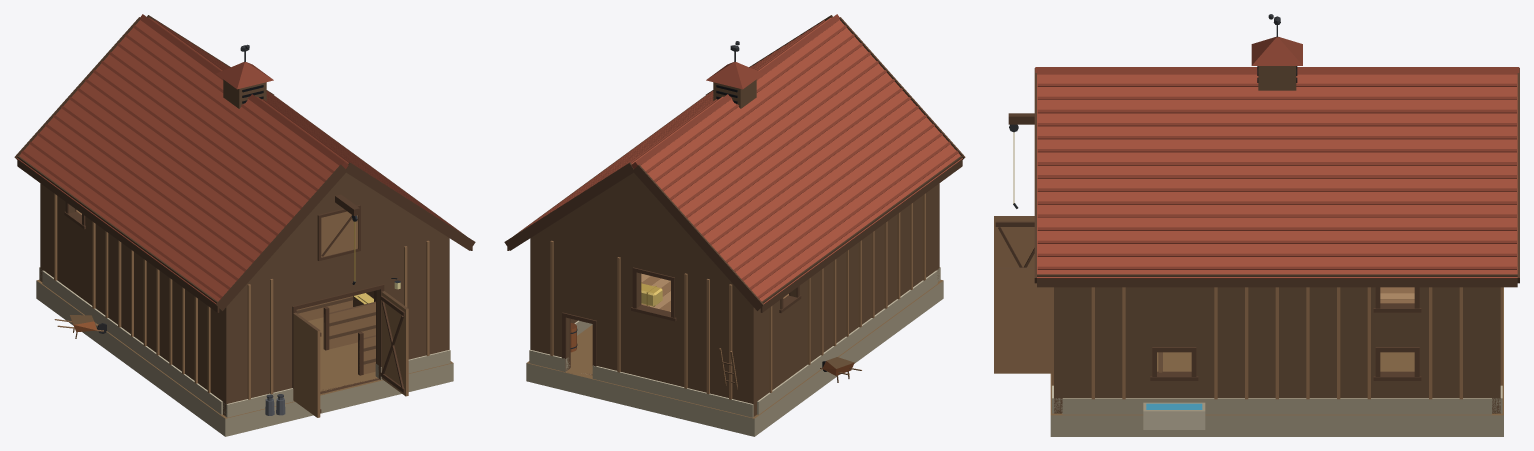
File: barn.glb
The picture shows the model from 3 angles, left to right: view 1: azimuth 30°, elevation 25°; view 2: azimuth 150°, elevation 25°; view 3: azimuth 270°, elevation 25°; orthographic projection. The views are drawn at different scales.
Visible parts, largest first — view 1: LOD0; view 2: LOD0; view 3: LOD0.
Boxes of the visible parts, x1,y1,x2,y2 form: LOD0: (14, 14, 475, 436); LOD0: (504, 14, 965, 436); LOD0: (994, 14, 1519, 436).
Size of what is drawn, in the model's own units: 11.74 by 11.45 by 15.32.
Materials: 1 (1 with a texture image).
